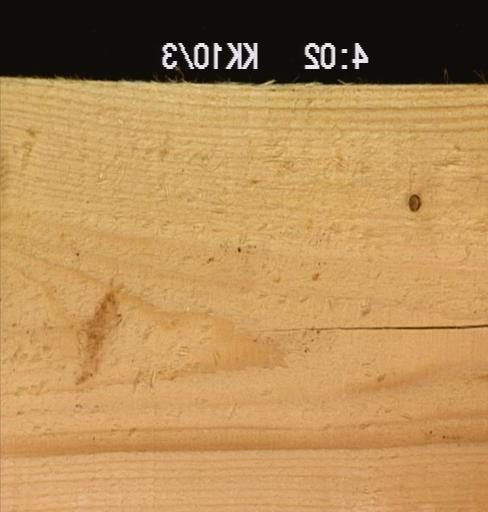dry_knot: (407, 189, 422, 213)
split: (247, 319, 486, 333)
